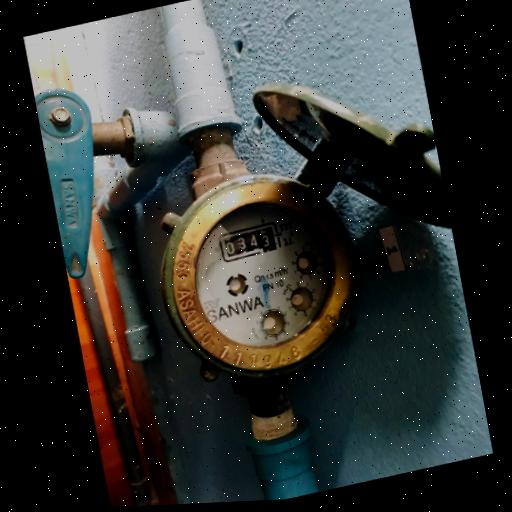0: (223, 235, 238, 257)
3: (257, 225, 276, 252), (234, 233, 249, 254)
4: (245, 228, 263, 251)
border_water_meter_number: (217, 220, 282, 263)
